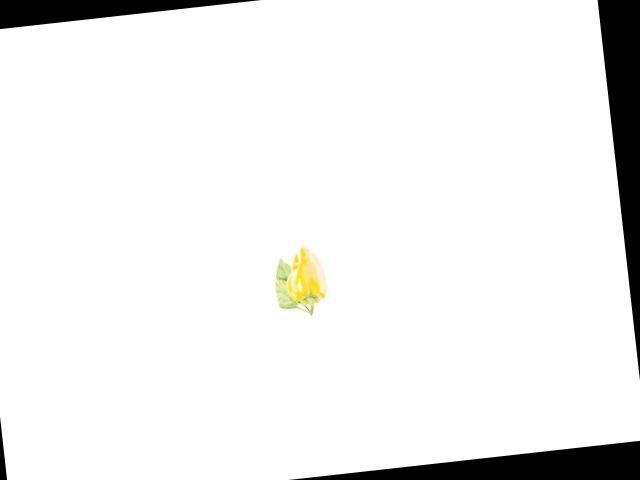bell_pepper: (281, 242, 333, 319)
